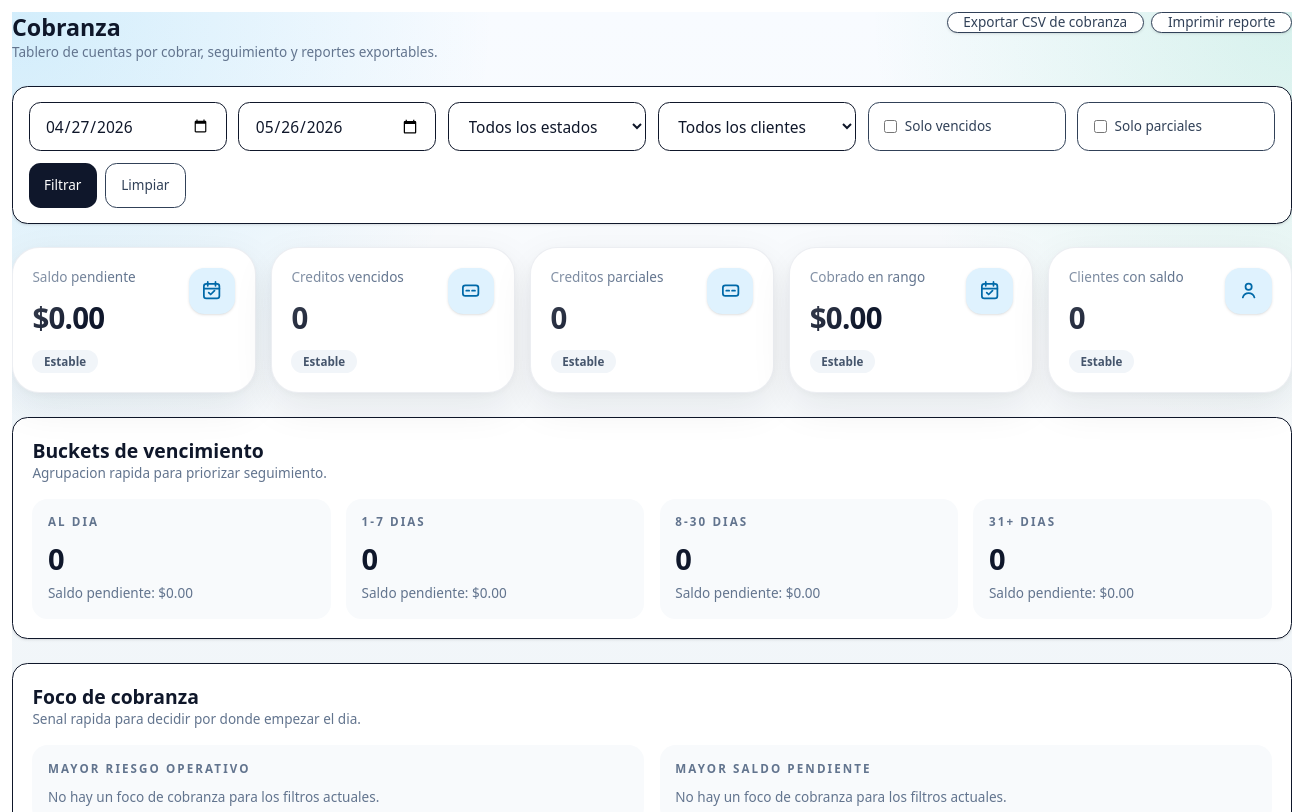
Test: CobranzaPage › muestra vacio y error segun la respuesta del endpoint
The image size is (1304, 812).
Click the button "Filtrar": (63, 185) x1=28 y1=163 x2=97 y2=208
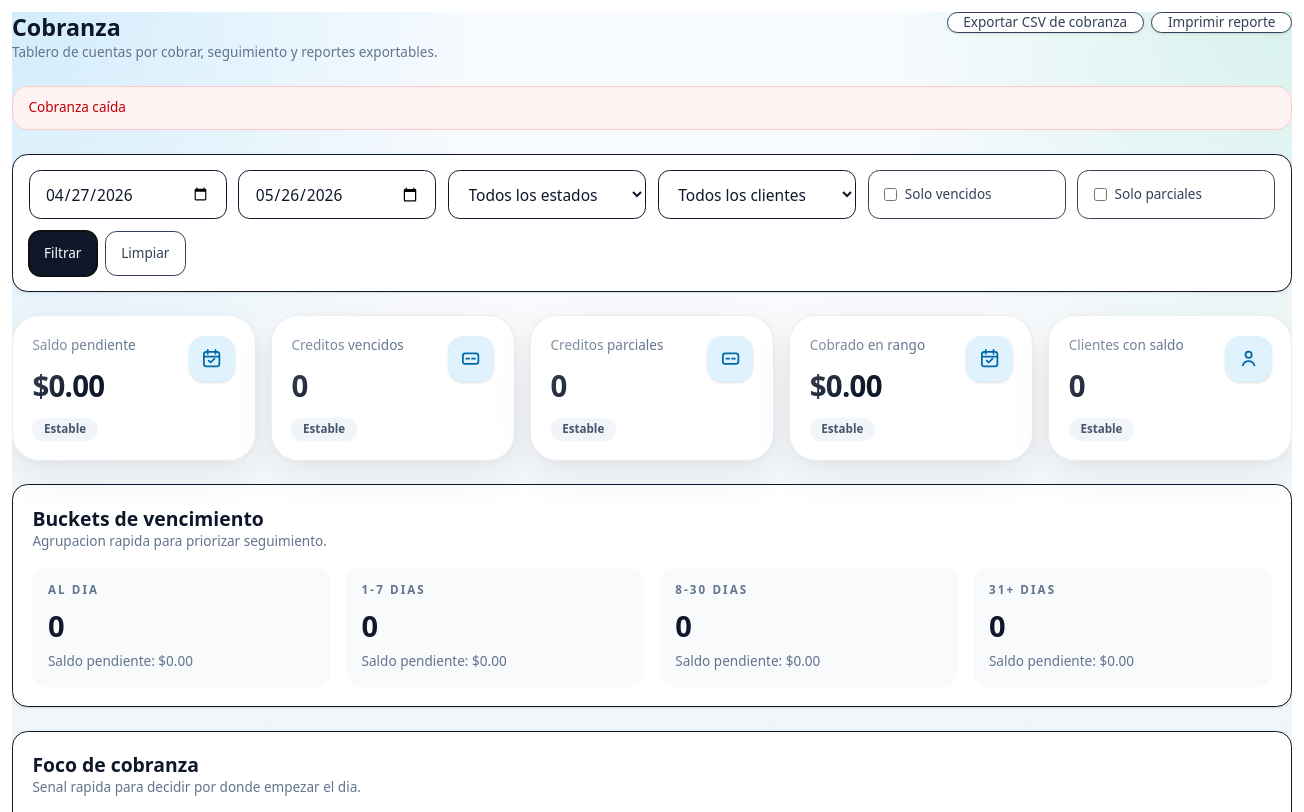
Check: the text "Cobranza caída" is shown, box x1=12 y1=86 x2=1292 y2=130
